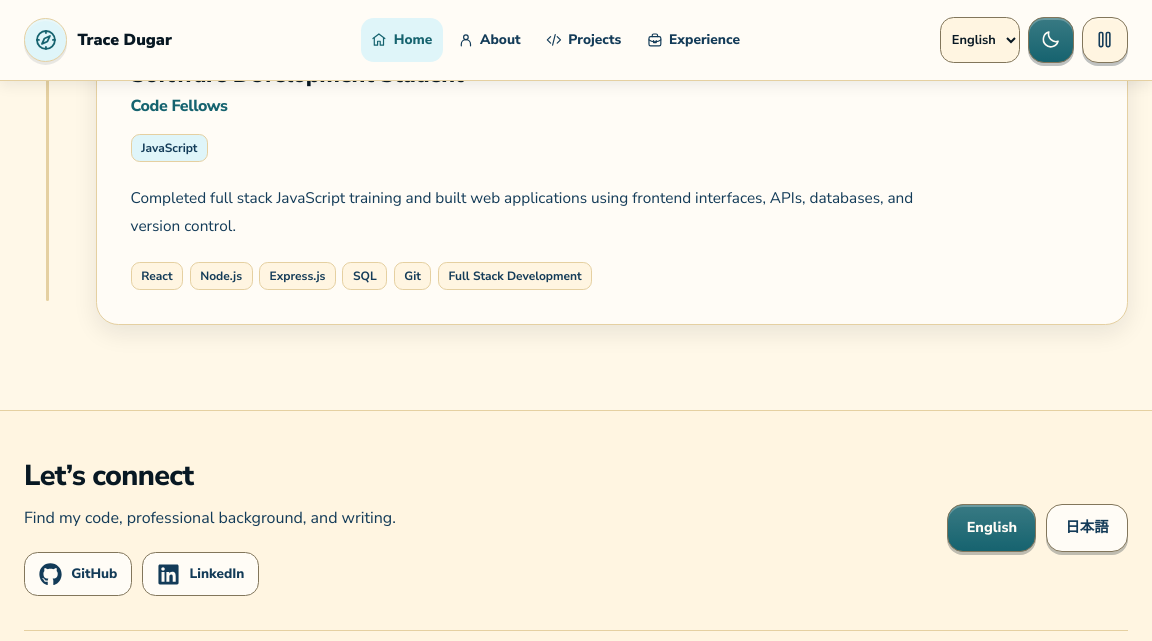
Scenario: switching languages reuses shared and previously loaded content
(page scrolled)
Click the button "日本語". click: (1087, 528)
box: x1=1046 y1=504 x2=1128 y2=552
(page scrolled)
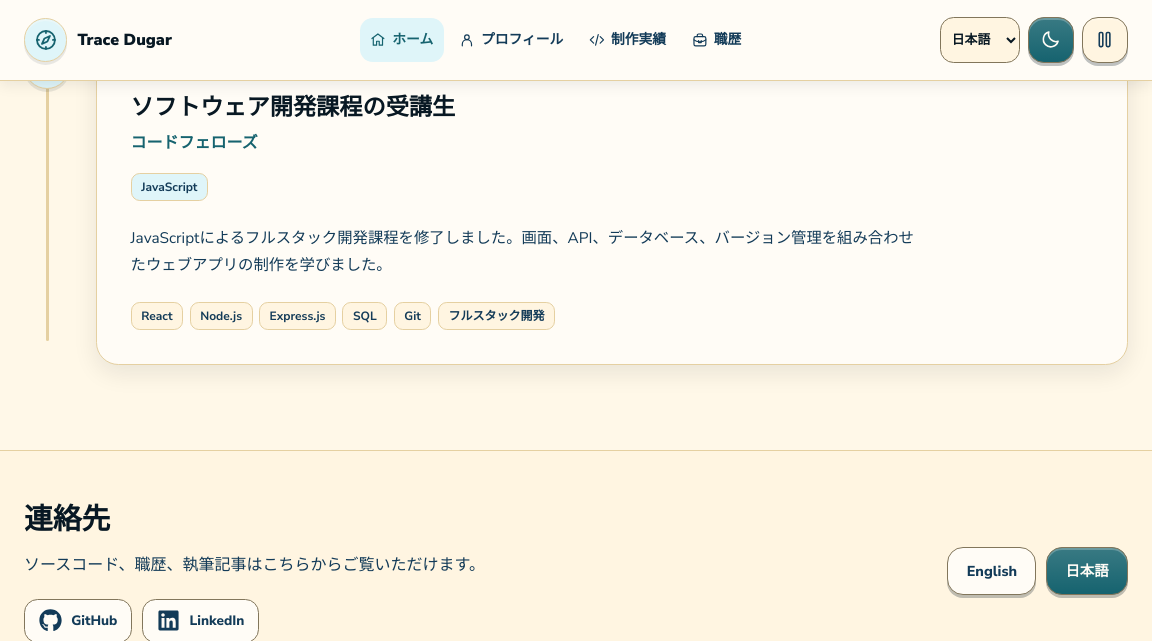
Click the button "English". click: (992, 571)
box: x1=947 y1=547 x2=1036 y2=595
(page scrolled)
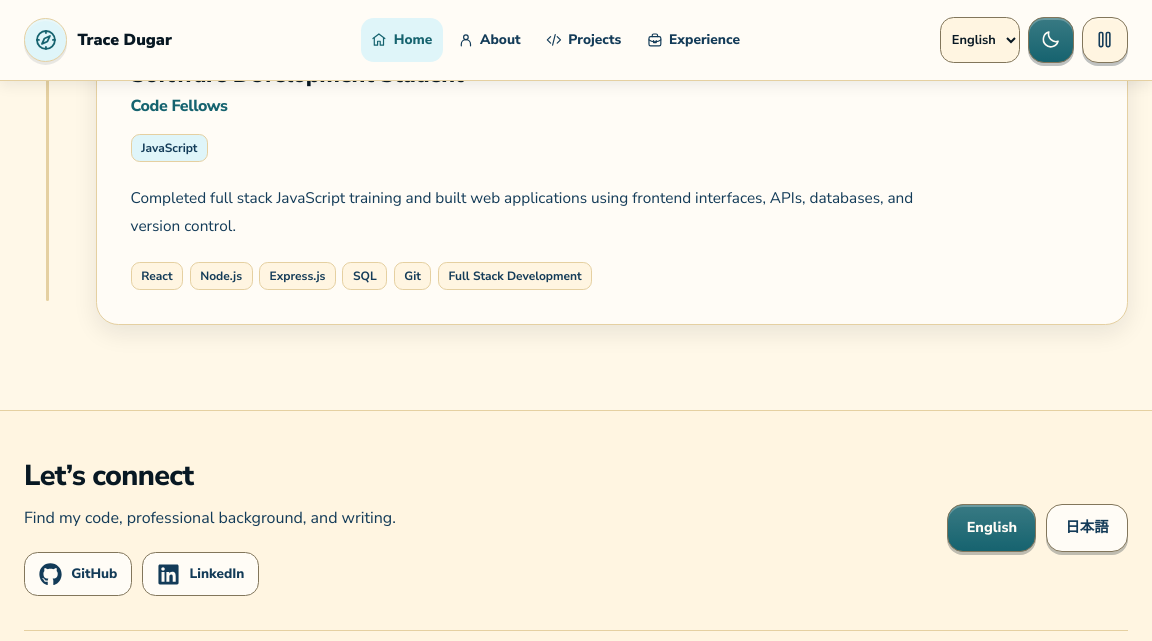
Click the button "日本語". click: (1087, 528)
box: x1=1046 y1=504 x2=1128 y2=552
(page scrolled)
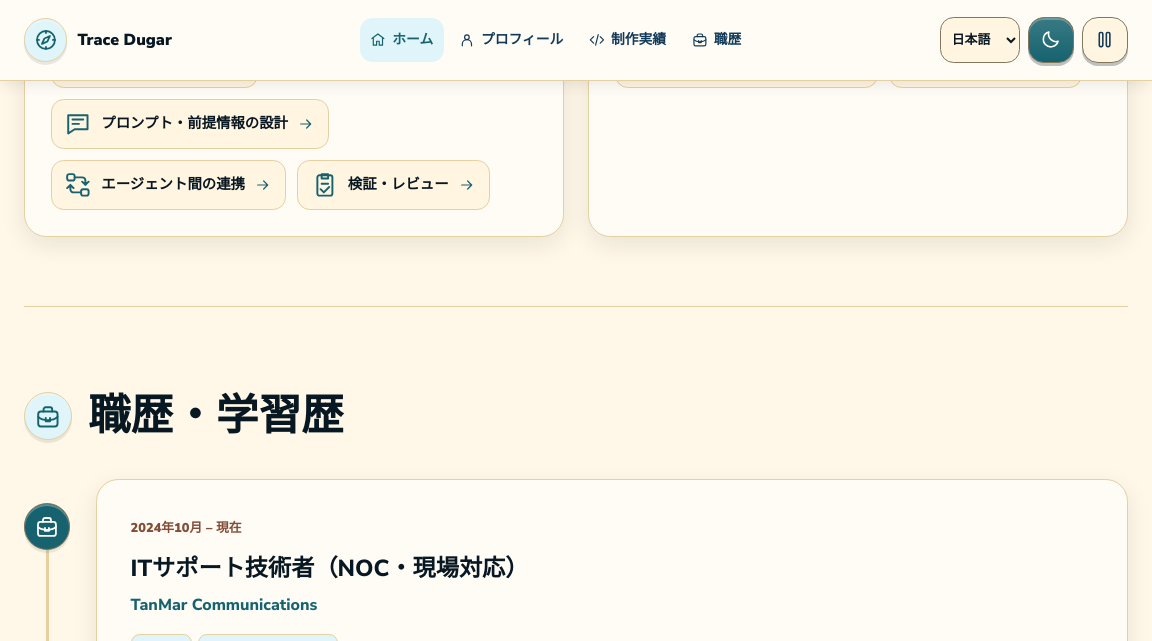
expect the heading "職歴・学習歴" is shown: met, box x1=88 y1=386 x2=344 y2=447
